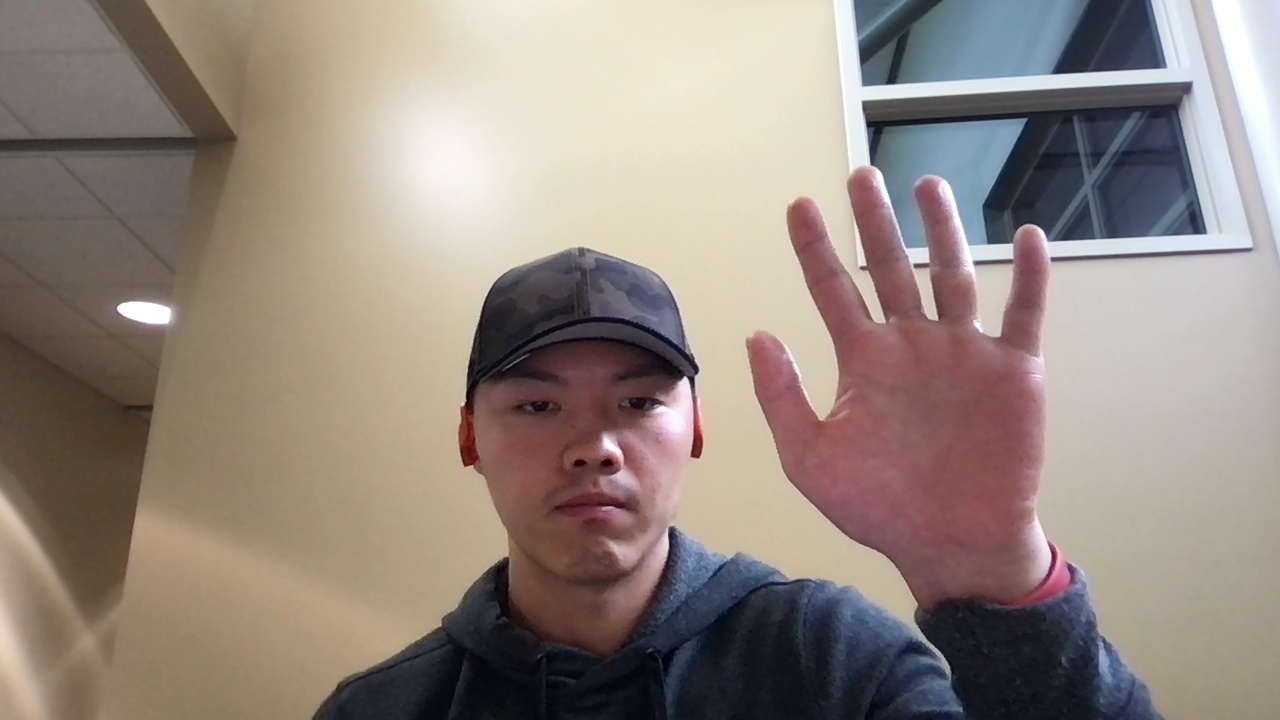Hello: (739, 162, 1072, 566)
